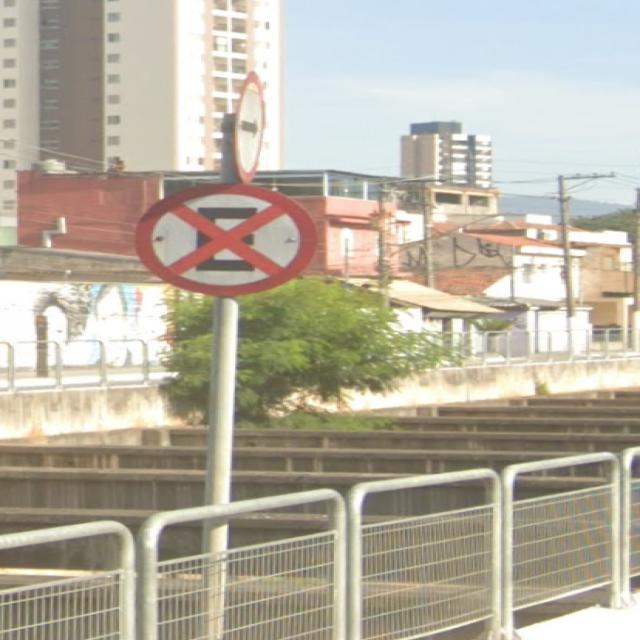no parking: (116, 157, 335, 294)
